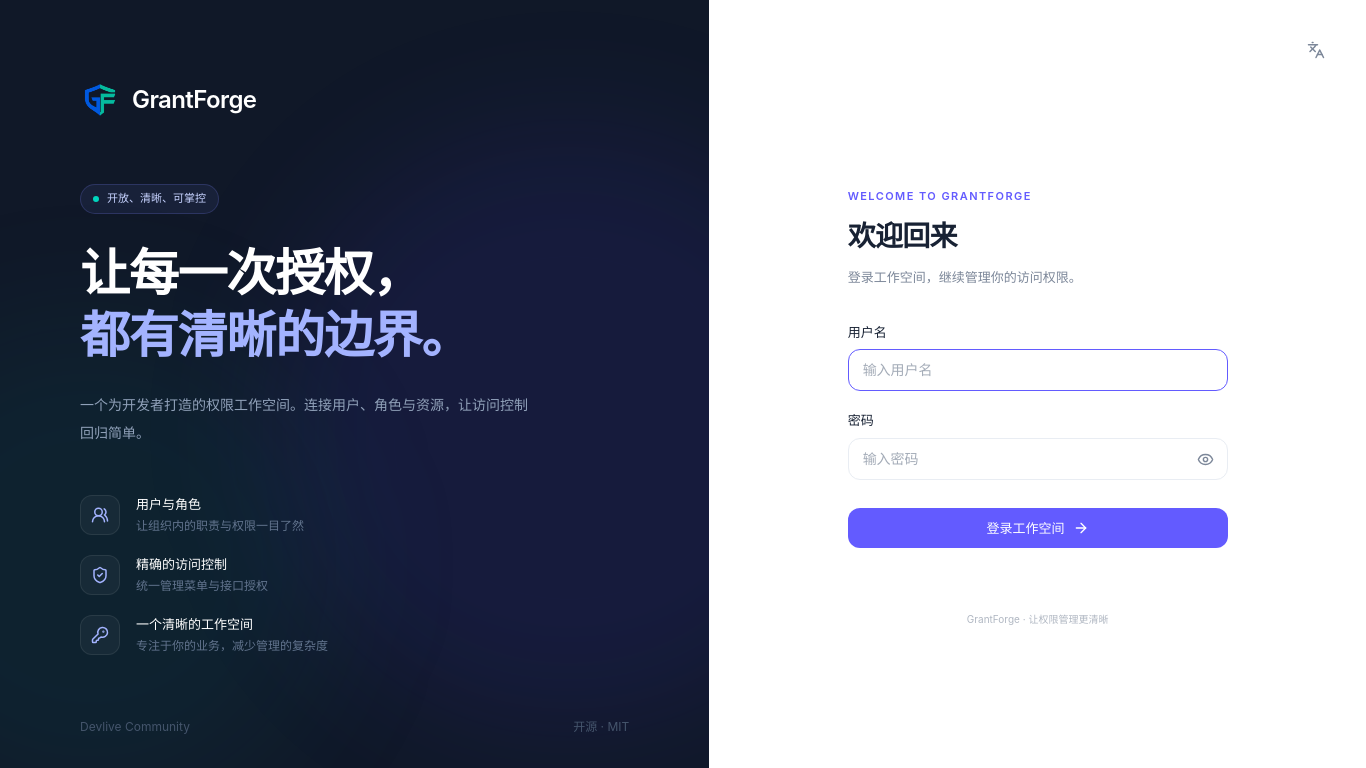
Scenario: auth view › shows server errors
This screenshot has width=1366, height=768.
Step 1. Type "admin" into the field labelled "用户名" → x=1038, y=370, box [848, 349, 1228, 391]
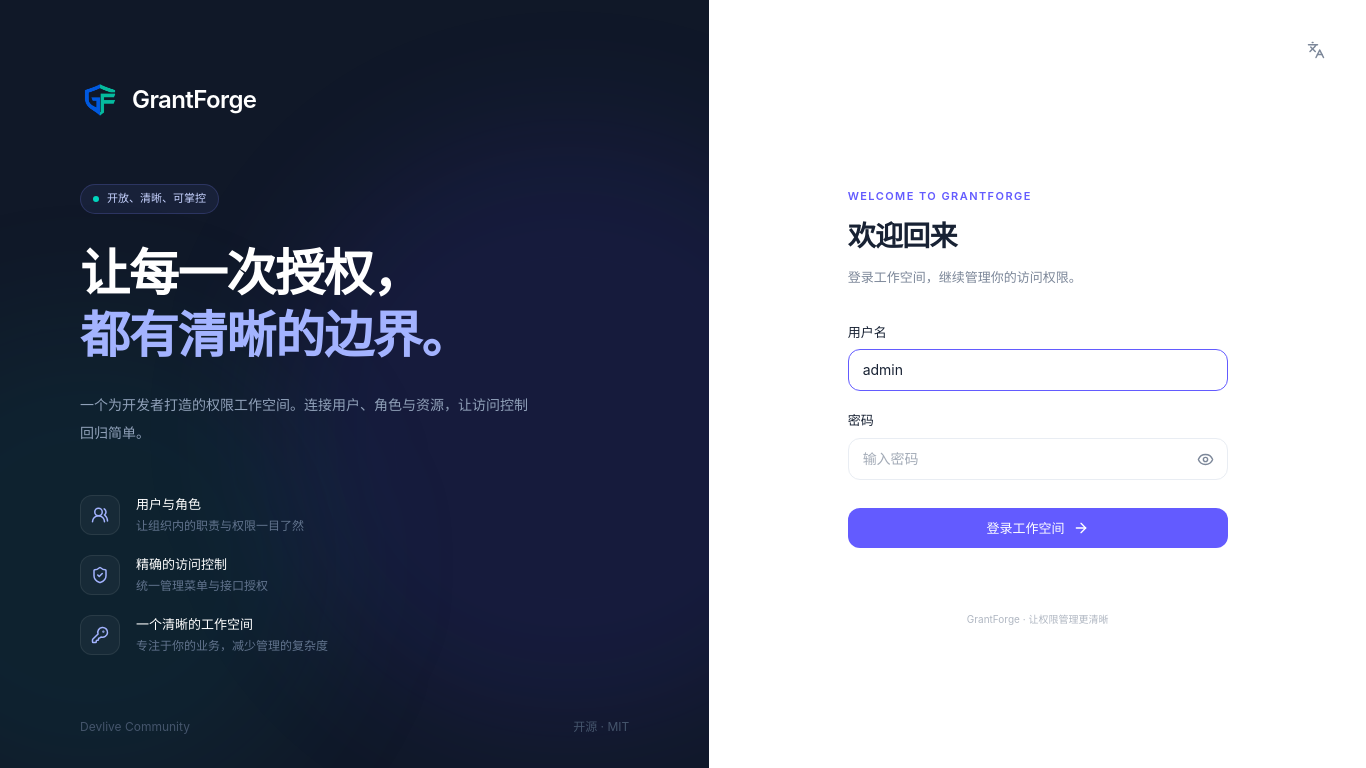
Step 2. Type "wrong" into the password field labelled "密码" → x=1038, y=459, box [848, 438, 1228, 480]
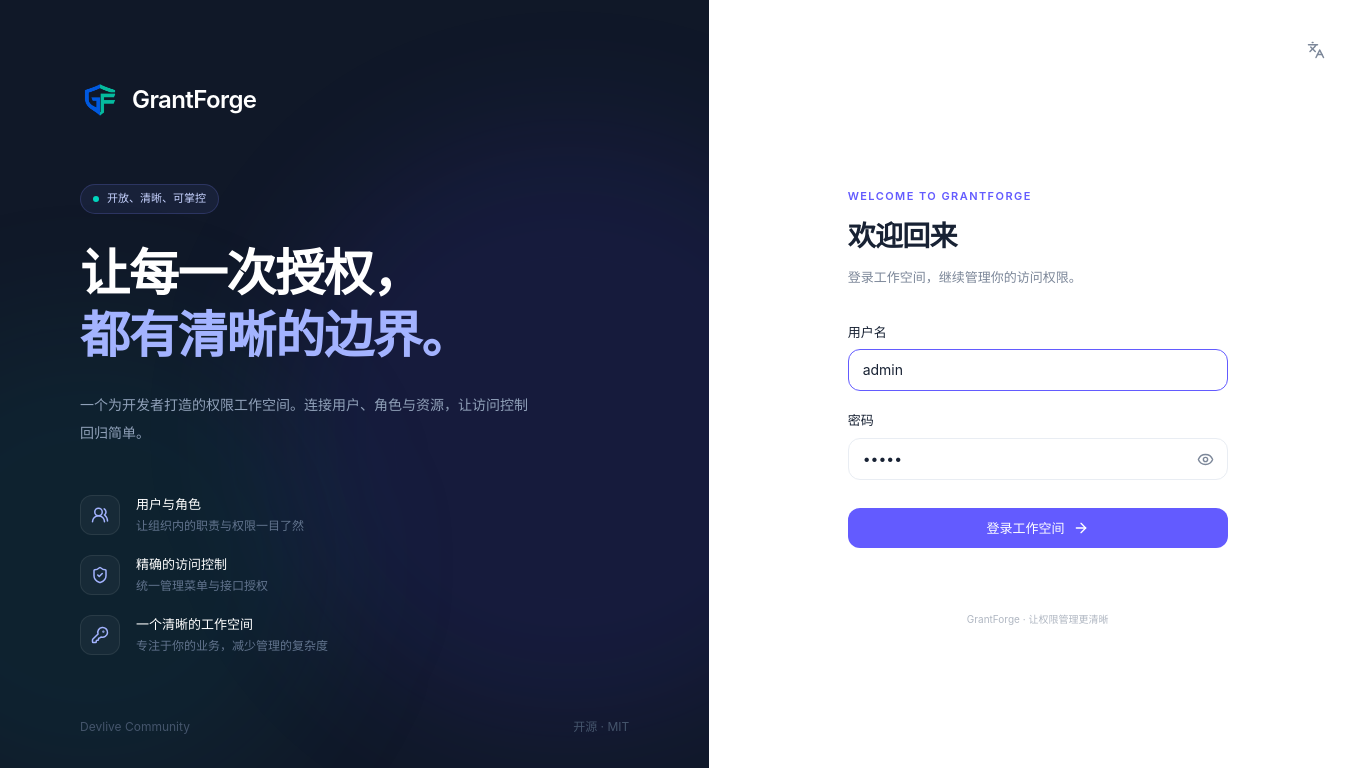
Step 3. Submit the form, box [848, 323, 1228, 548]
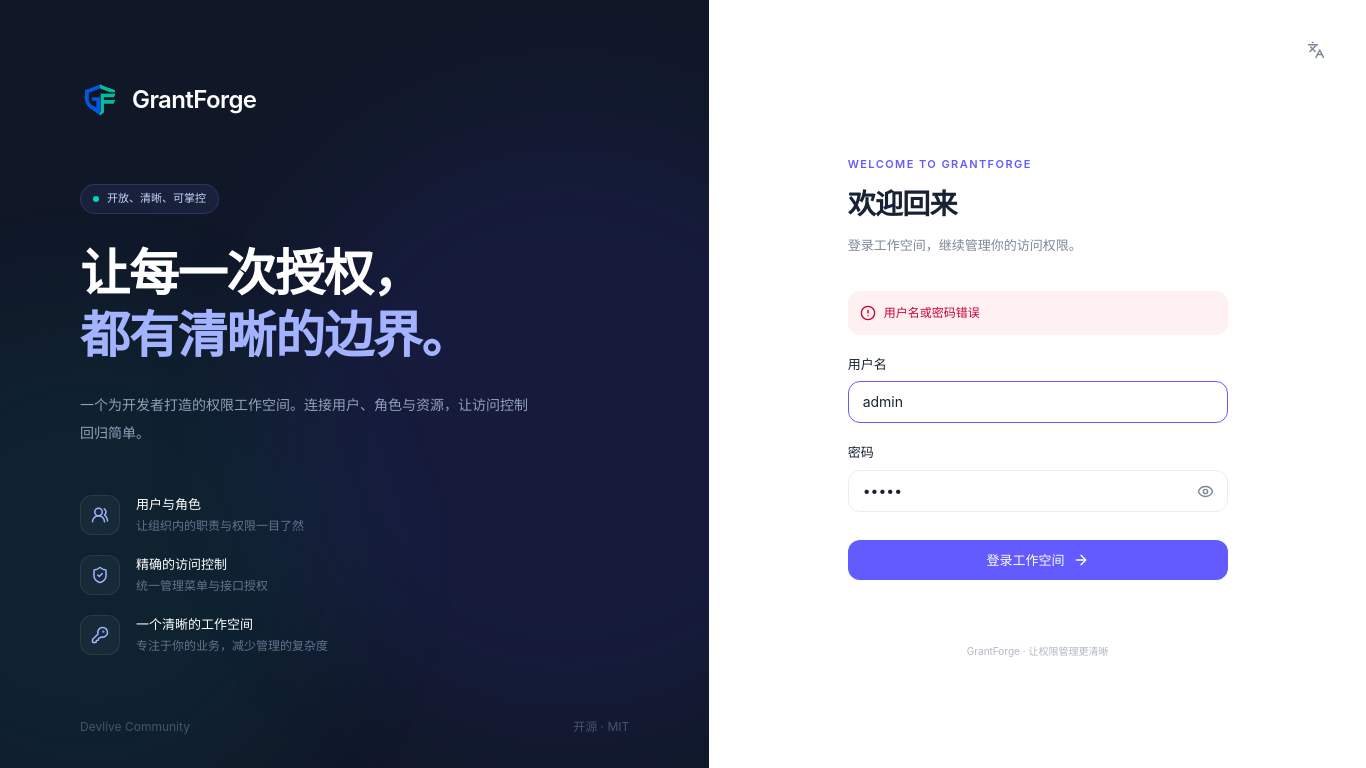
Result: the message "用户名或密码错误" is shown at [848, 291, 1228, 335]
